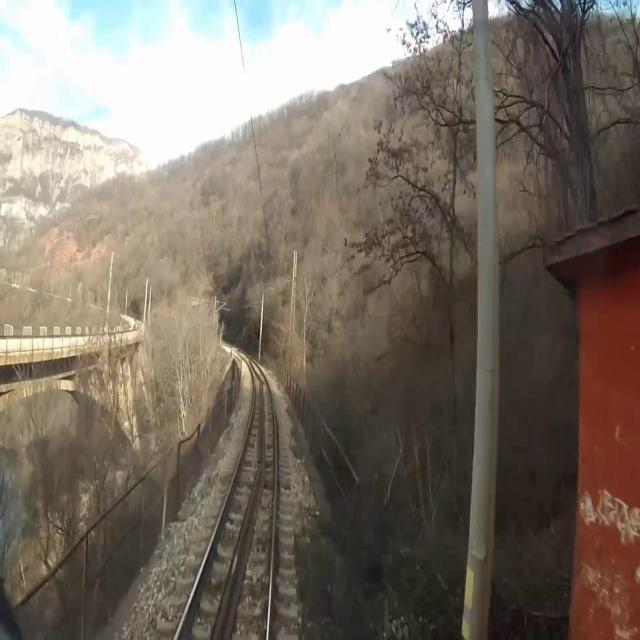rail-track: (179, 361, 273, 639)
